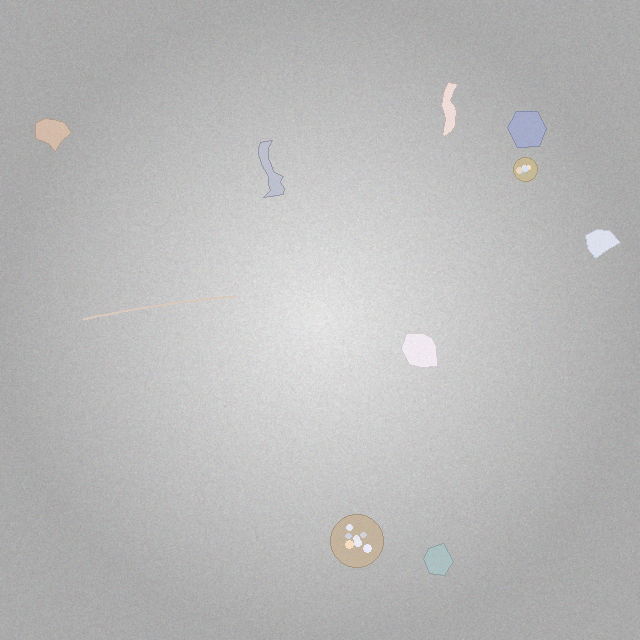fiber: (80, 293, 239, 323)
film: (259, 141, 285, 197), (442, 82, 459, 136)
foam: (330, 514, 383, 567), (514, 158, 538, 182)
fragment: (508, 111, 546, 148), (35, 118, 71, 152), (402, 333, 437, 367), (423, 543, 453, 576), (586, 229, 620, 258)
